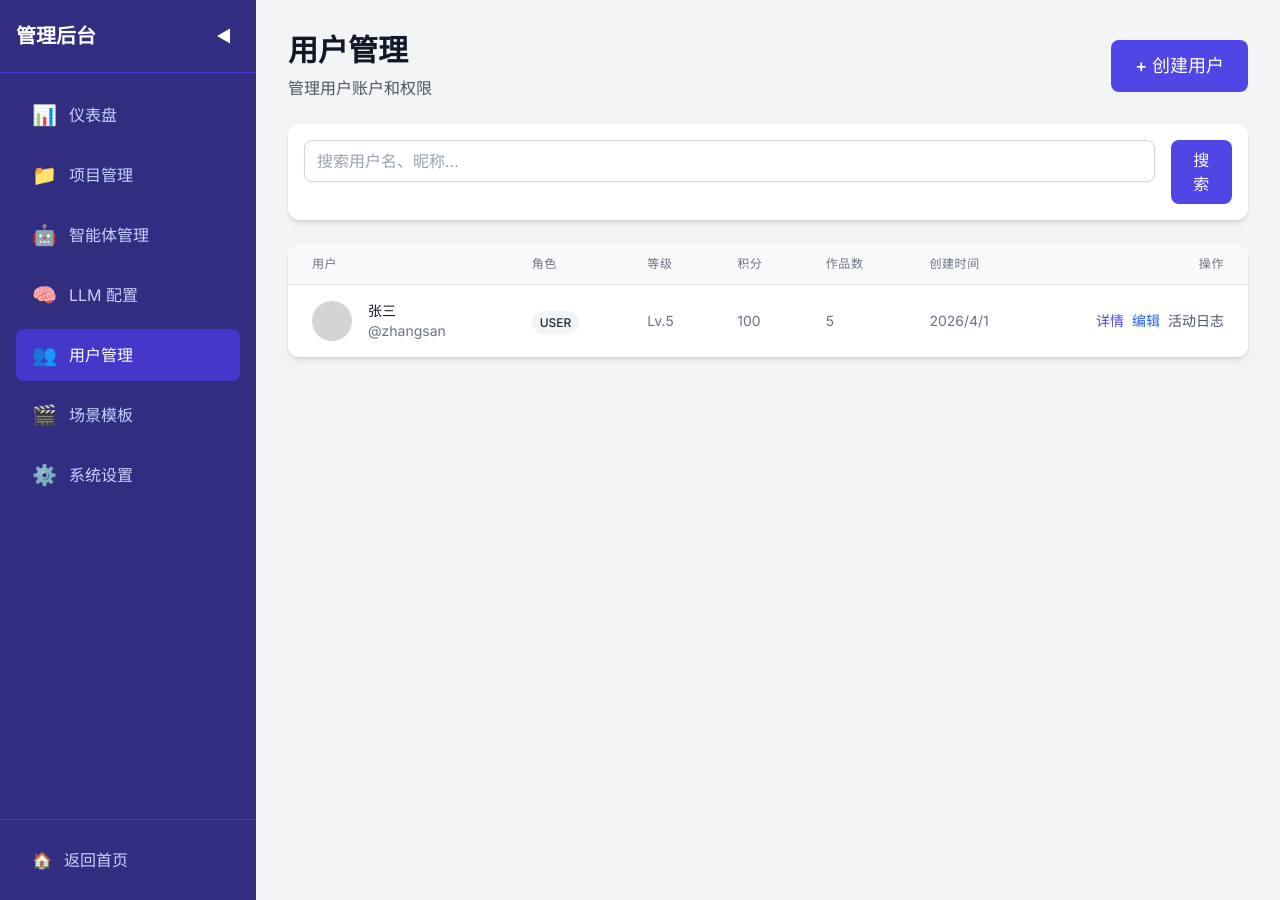
Test: UsersPage › 用户详情查看 › 应该显示用户详情模态框
This screenshot has width=1280, height=900.
Click the button "详情". click: x=1110, y=321
box: x1=1096 y1=311 x2=1124 y2=331
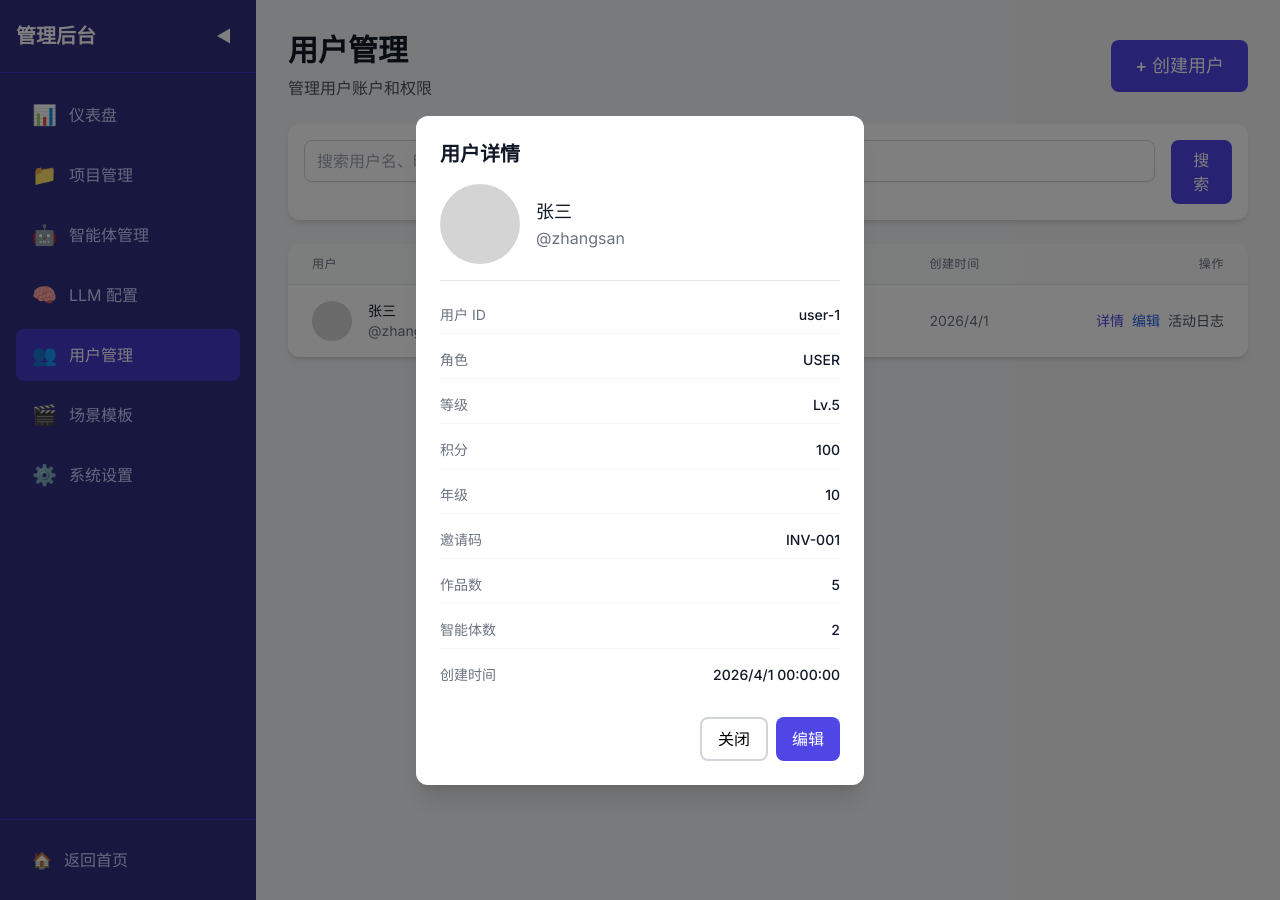
Result: the heading "用户详情" is shown at x1=440 y1=142 x2=520 y2=166
